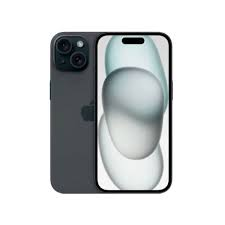IPHONE: (46, 24, 180, 199), (91, 28, 175, 196), (49, 26, 96, 199)
